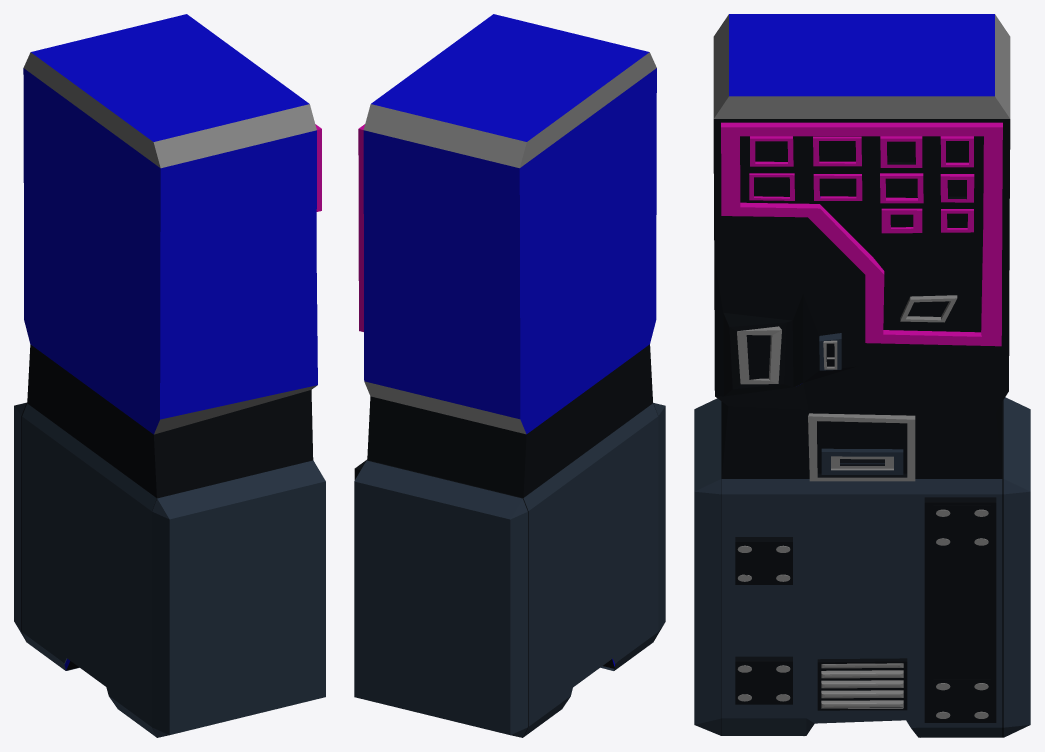
Rendered from Vending Machine.fbx.
3 views of the same model, side by side, from view 1: azimuth 30°, elevation 25°; view 2: azimuth 150°, elevation 25°; view 3: azimuth 270°, elevation 25° (orthographic). The views are drawn at different scales.
Visible parts, largest first — view 1: Cube.001 (×4); view 2: Cube.001 (×5); view 3: Cube.001 (×5).
Part boxes in pixels (<box>): Cube.001 (×4): <box>14,14,325,737</box>; Cube.001 (×5): <box>354,14,665,737</box>; Cube.001 (×5): <box>694,14,1030,737</box>.
Size of the model in its own units: 561 by 1783 by 846.
